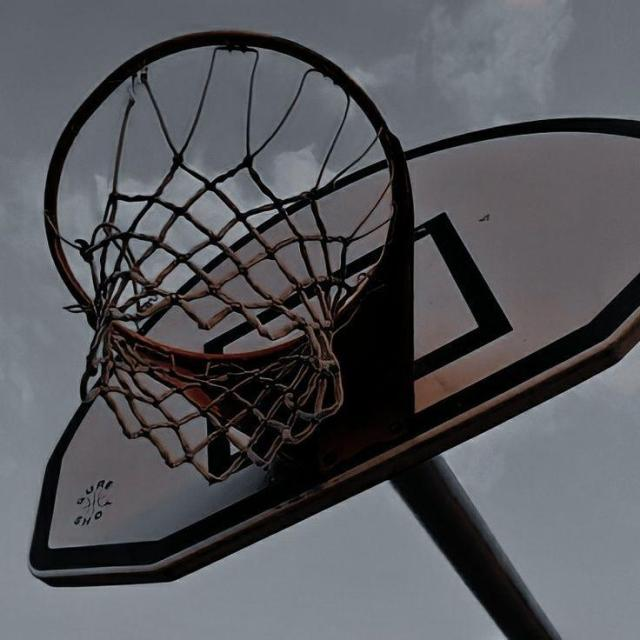hoop: (18, 31, 445, 467)
